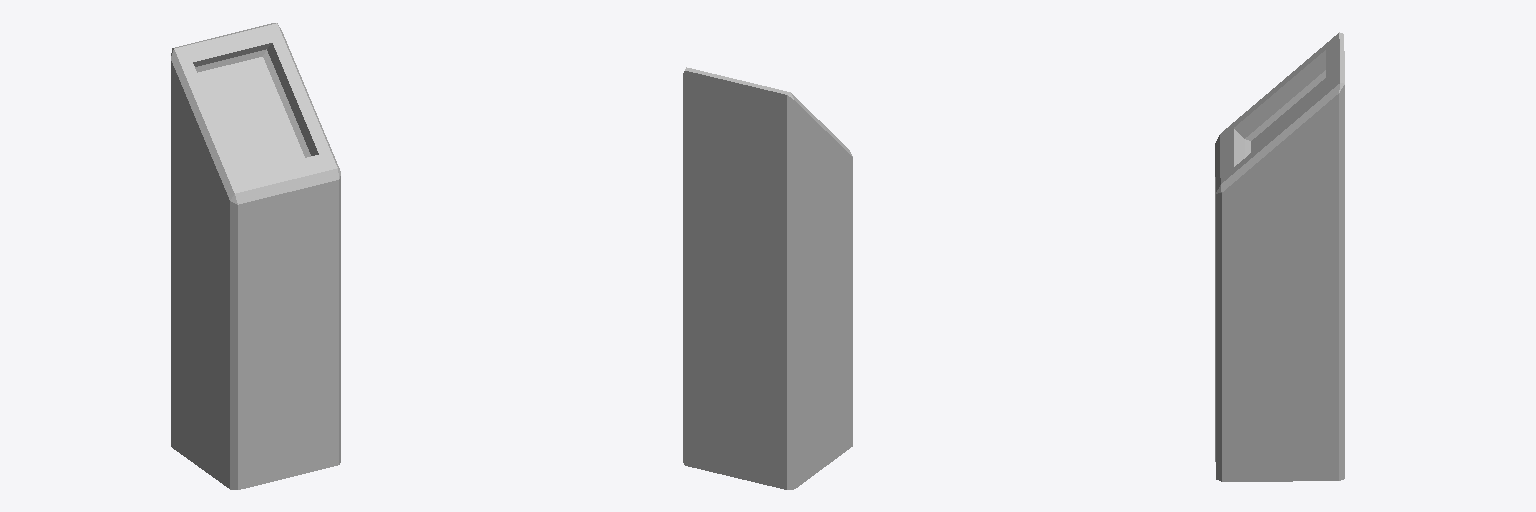
Rendered from RPS_Button_Holder.obj.
The picture shows the model from 3 angles: view 1: azimuth 30°, elevation 25°; view 2: azimuth 150°, elevation 25°; view 3: azimuth 270°, elevation 25°; orthographic projection.
Parts seen in each view (by area): view 1: Cube.003_Cube.035; view 2: Cube.003_Cube.035; view 3: Cube.003_Cube.035.
Part boxes in pixels (left/top/right/bottom): Cube.003_Cube.035: left=171, top=23, right=340, bottom=489; Cube.003_Cube.035: left=683, top=67, right=852, bottom=489; Cube.003_Cube.035: left=1215, top=32, right=1344, bottom=481.
Size of the model in its own units: 0.7332 by 2.46 by 0.7332.